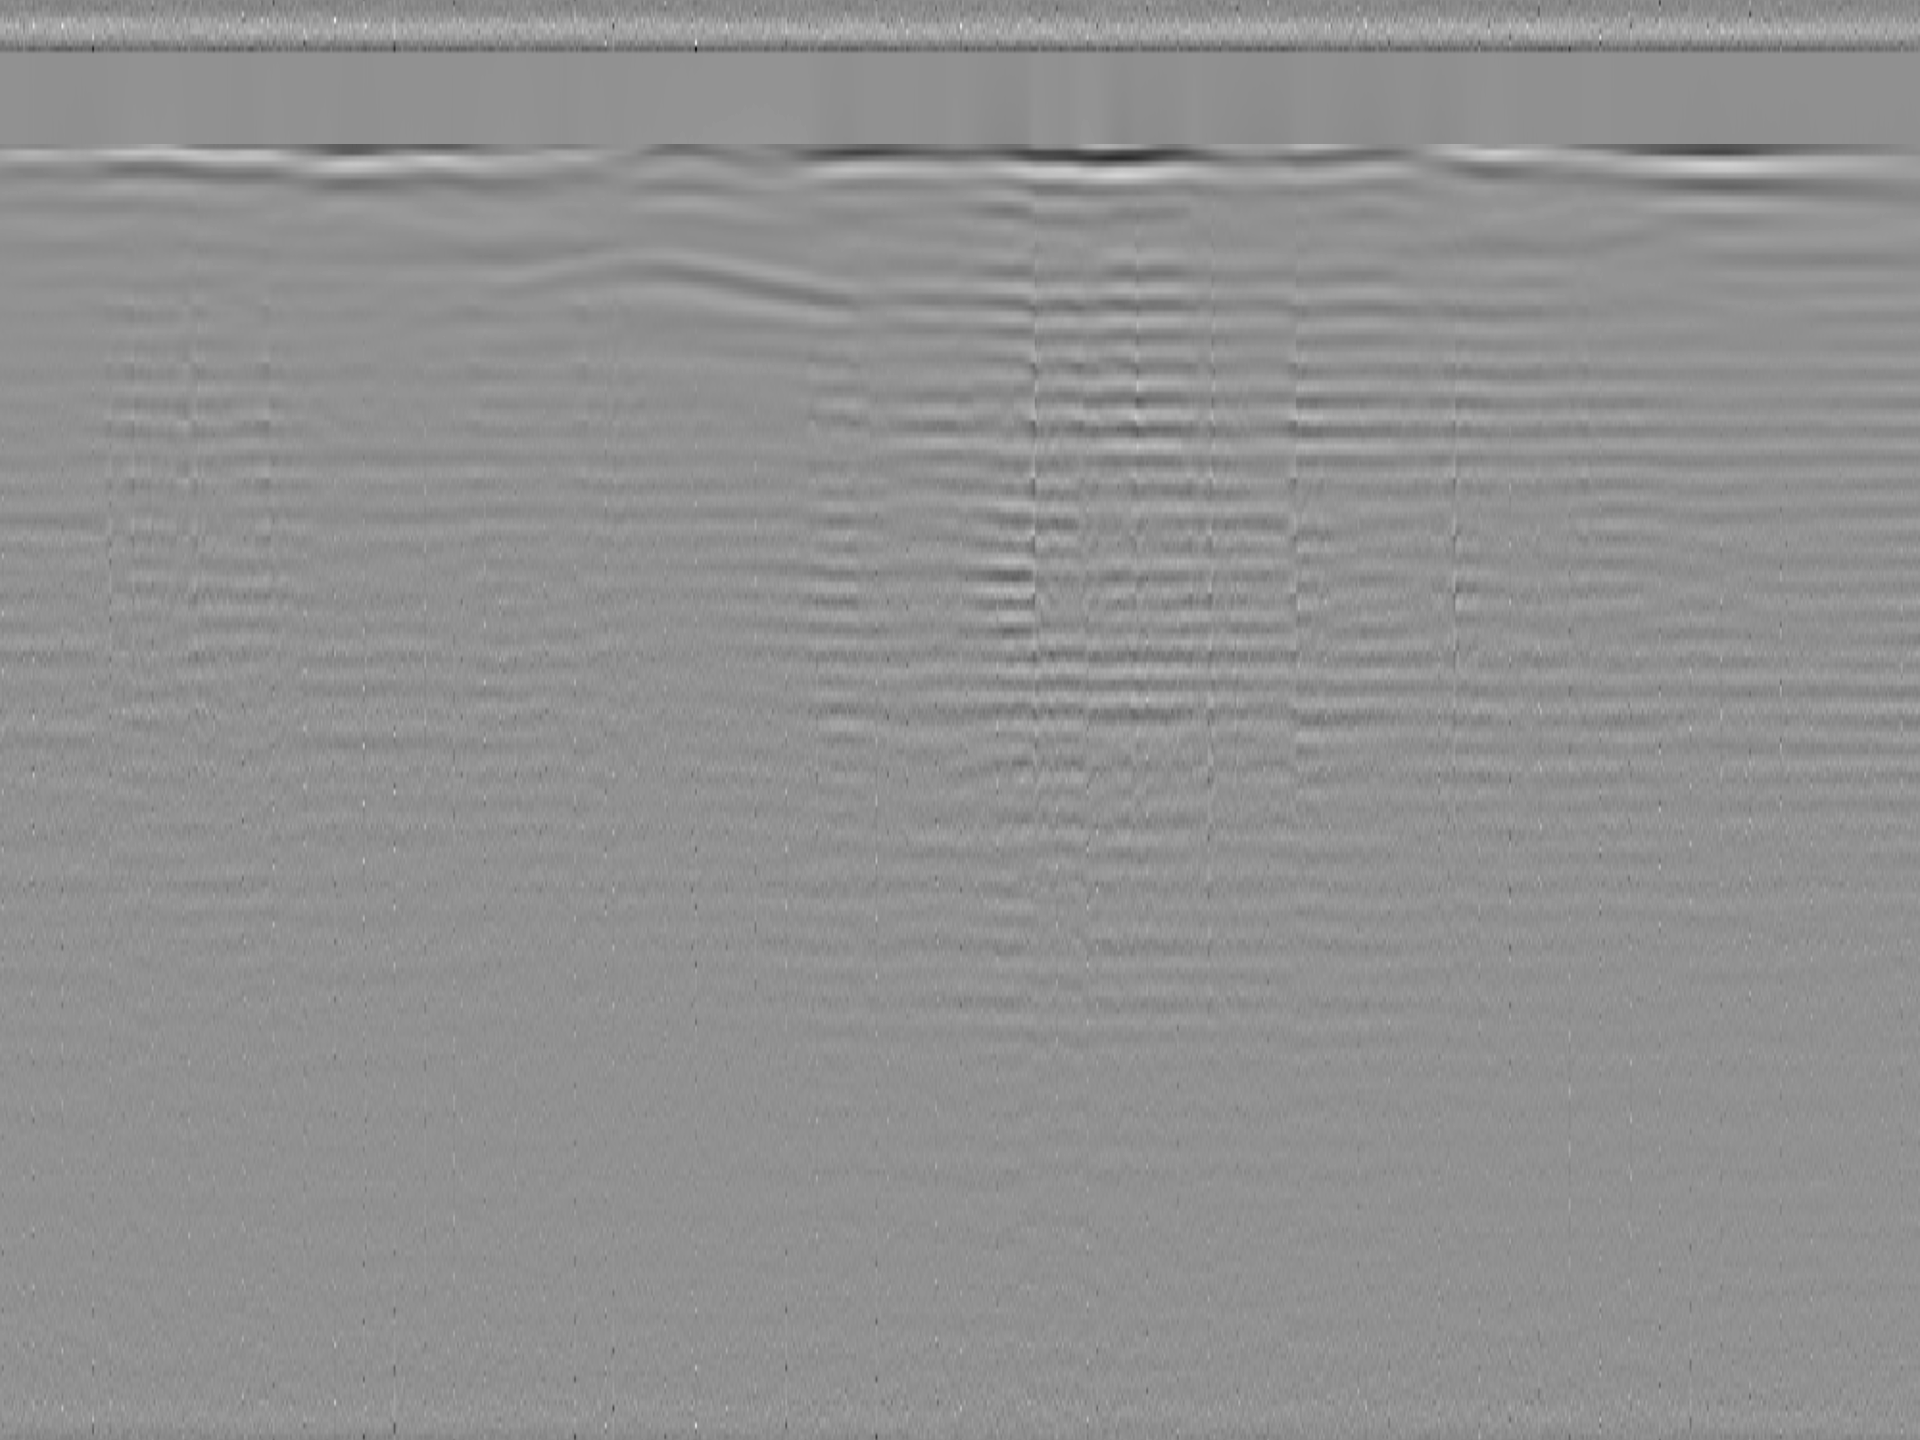Tunnel: (446, 245, 878, 331)
